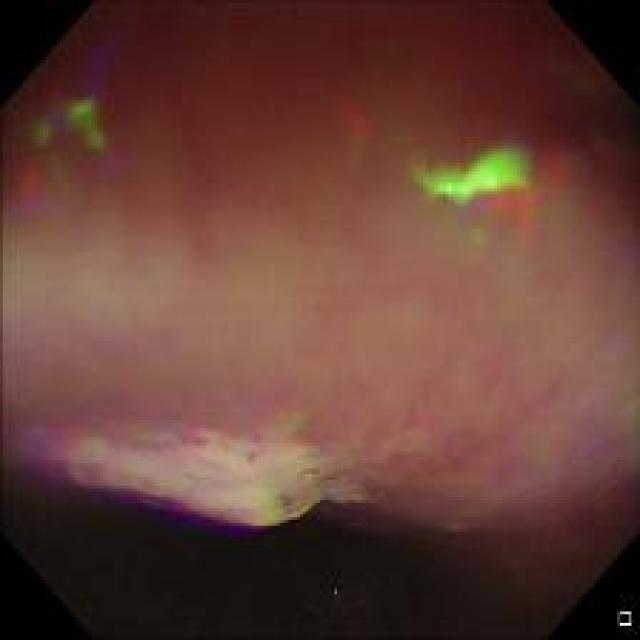blur: (4, 12, 632, 528)
color misalignment: (34, 406, 356, 532), (415, 141, 586, 242), (22, 92, 120, 220), (335, 104, 379, 148)
contrast: (8, 475, 576, 630)
